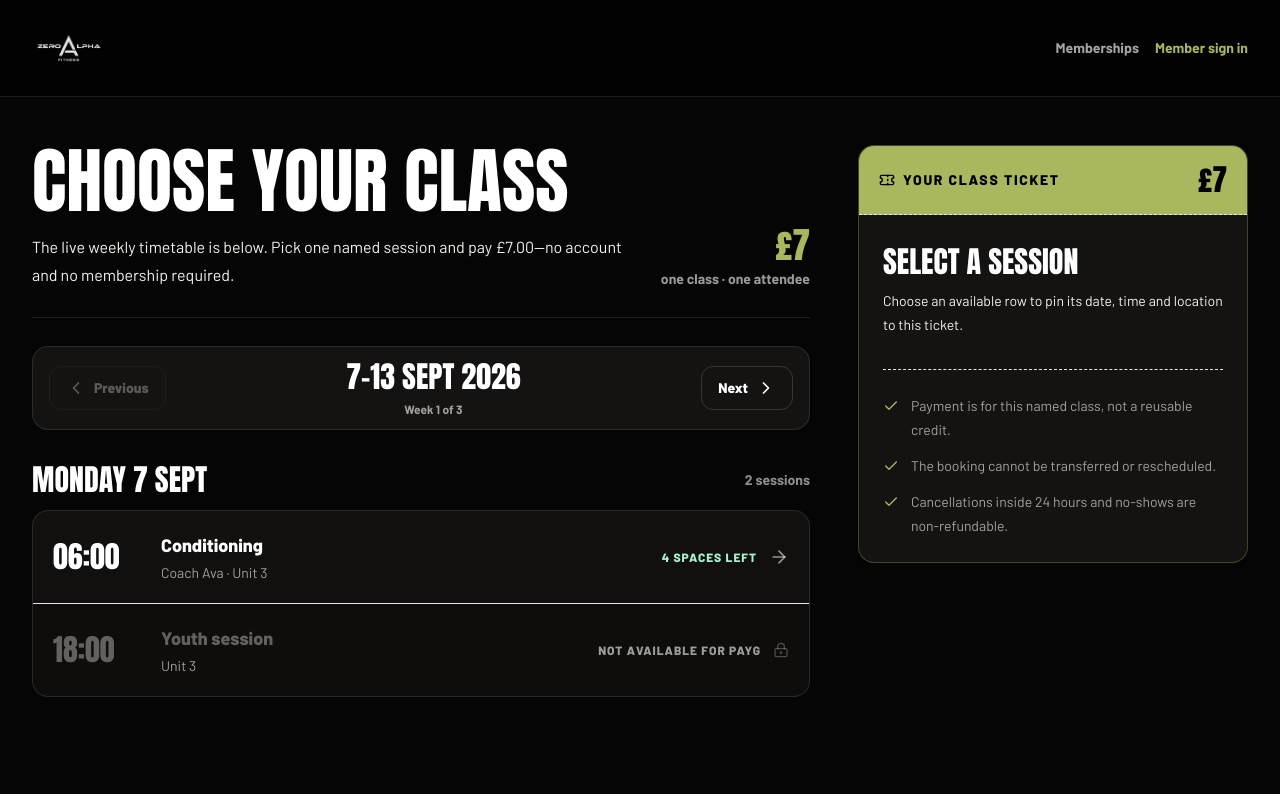
Pay As You Go timetable › shows one Monday-to-Sunday week at a time and keeps empty weeks navigable
The image size is (1280, 794).
expect the heading "7–13 Sept 2026" is shown: met, box [346,354,521,399]
expect the button "Engine" is not shown: met
Click the button "06:00 Conditioning Coach Ava · Unit 3 4 spaces left".
click(86, 556)  # box [33,511,809,604]
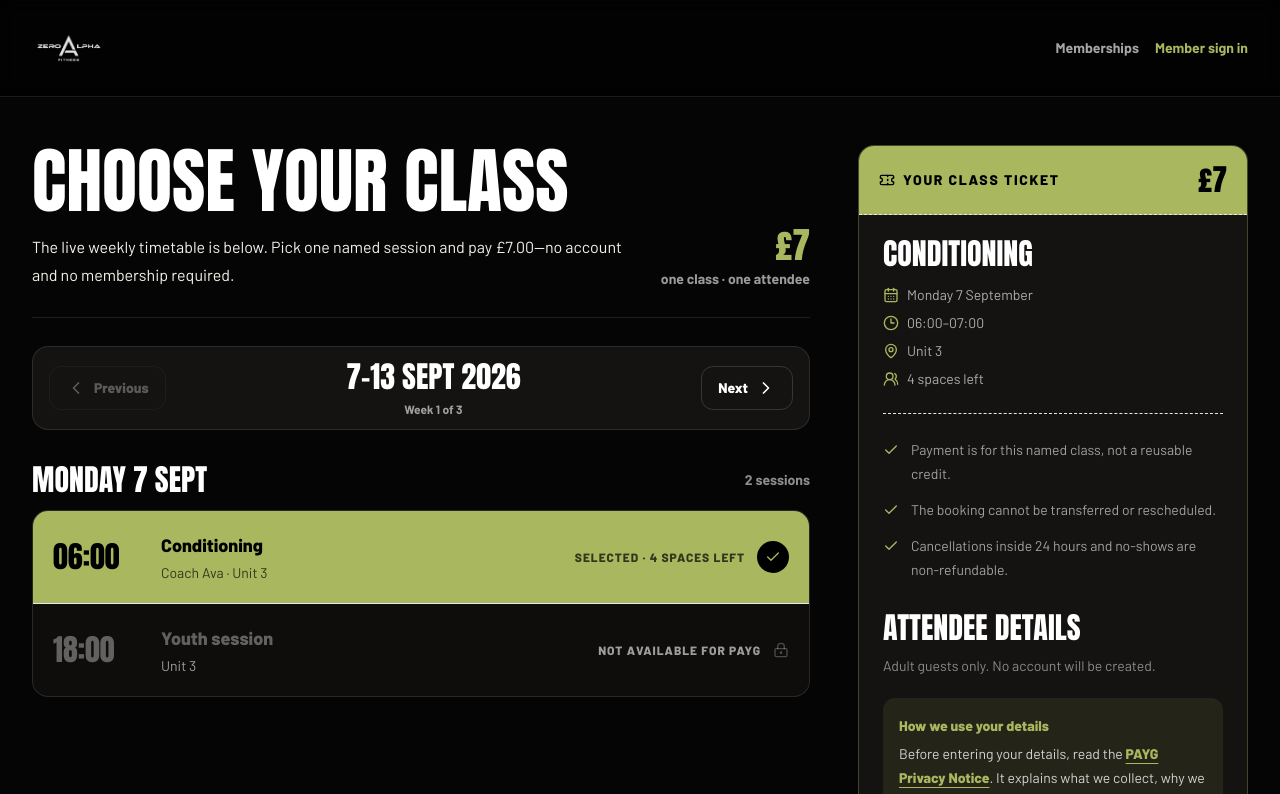
Click the button with aria-label "Show next week".
click(747, 388)  # box [701,366,793,410]
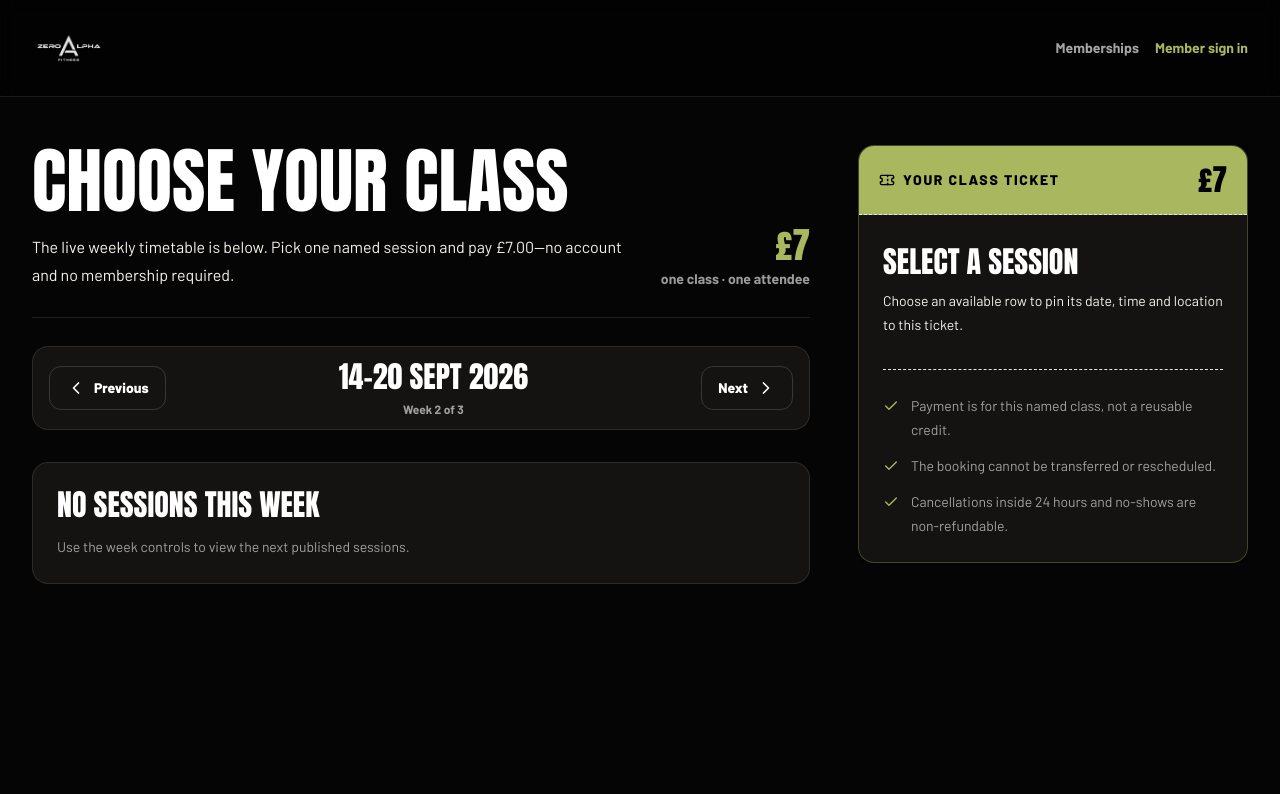
expect the heading "14–20 Sept 2026" is shown: met, box [339,354,528,399]
expect the heading "No sessions this week" is shown: met, box [57,482,319,527]
Click the button with aria-label "Show next week".
click(747, 388)  # box [701,366,793,410]
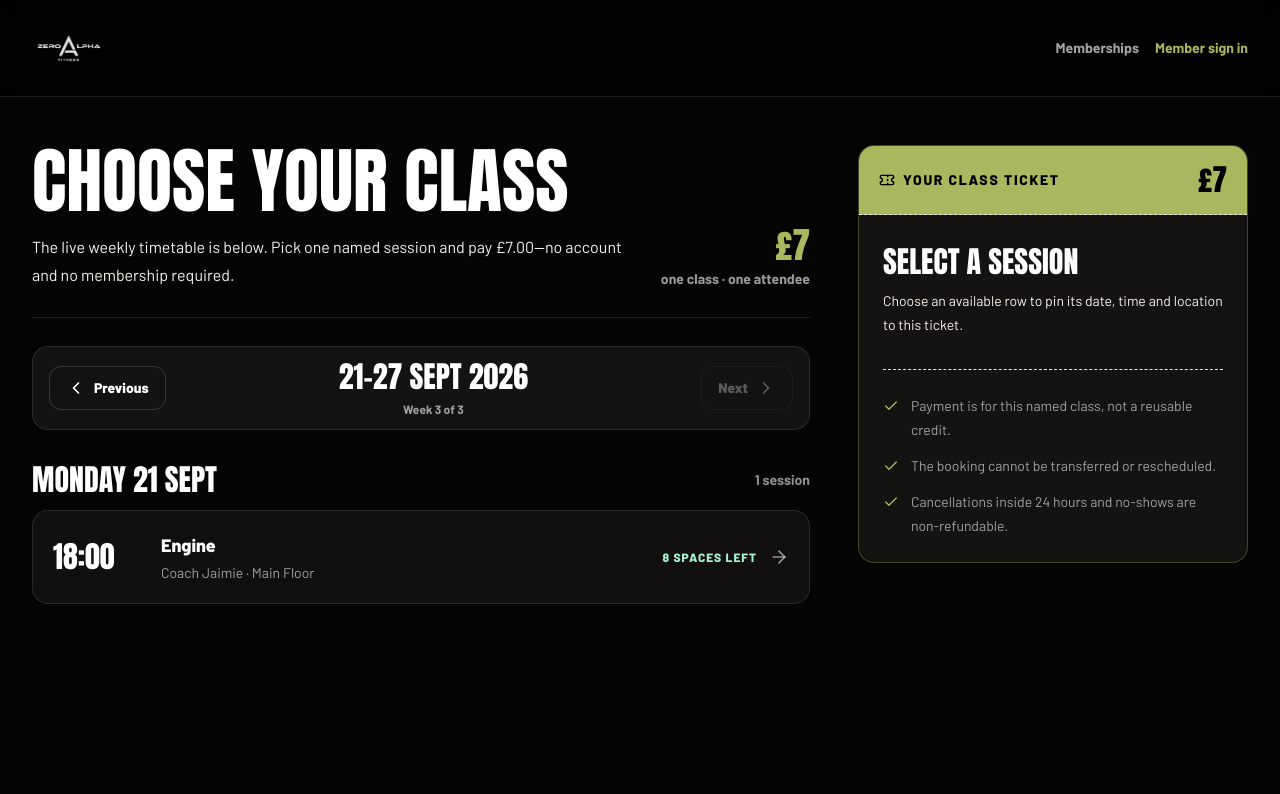
expect the heading "21–27 Sept 2026" is shown: met, box [339,354,528,399]
expect the button "18:00 Engine Coach Jaimie · Main Floor 8 spaces left" is shown: met, box [33,511,809,603]
expect the button with aria-label "No next timetable week" is disabled: met, box [701,366,793,410]
